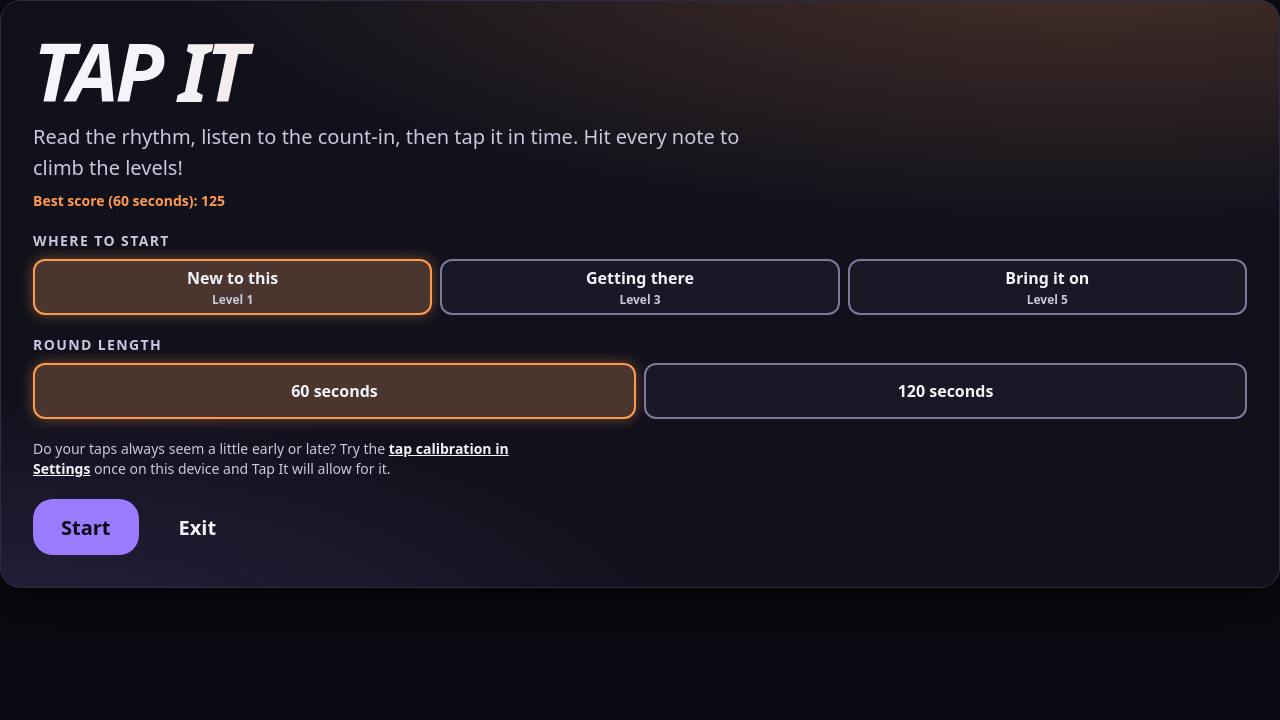
Test case: start screen › shows the title, three starting levels, two round lengths, Start and Exit
Check: the heading "Tap It" is shown, box [33, 33, 1247, 109]
Check: the radio button labelled "New to this Level 1" is checked, box [33, 259, 432, 315]
What coordinates should you click on to do the following:
click the radio button labelled "120 seconds"
I would click on:
 (946, 391)
Its box is [644, 363, 1247, 419].
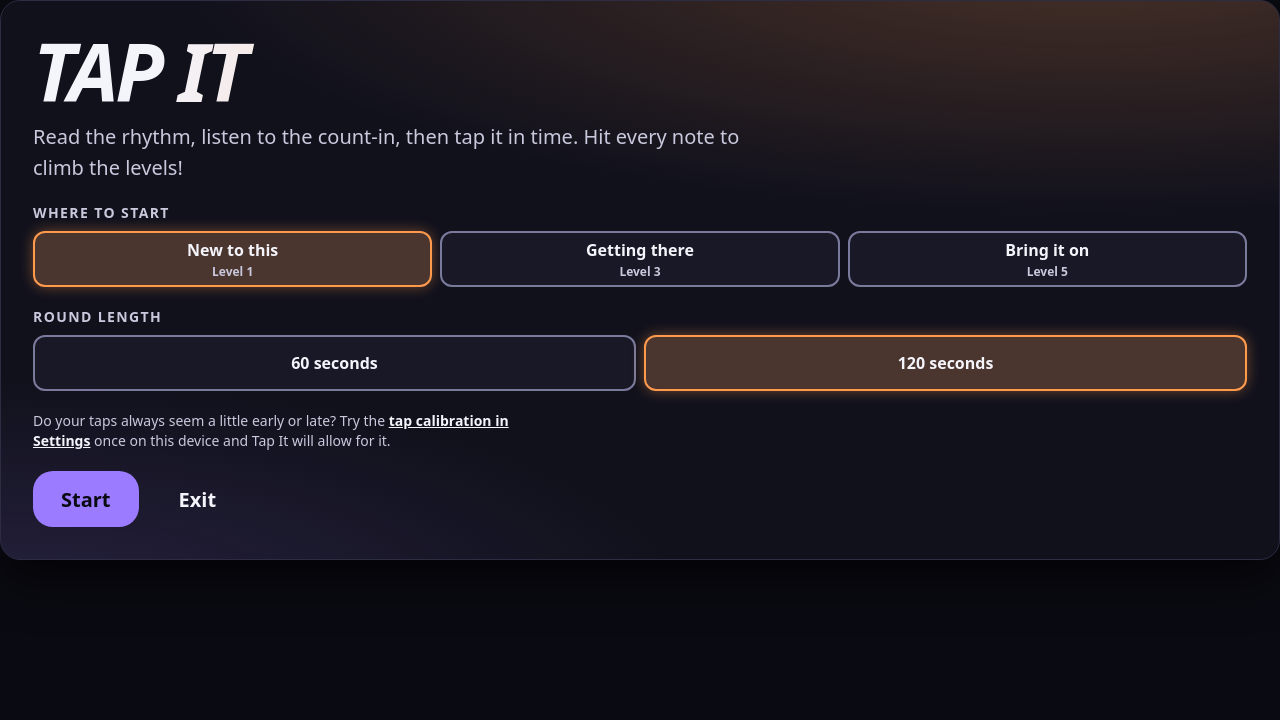
Check: the button "Start" is shown, box [33, 471, 138, 527]
Check: the text "Best score" is gone
